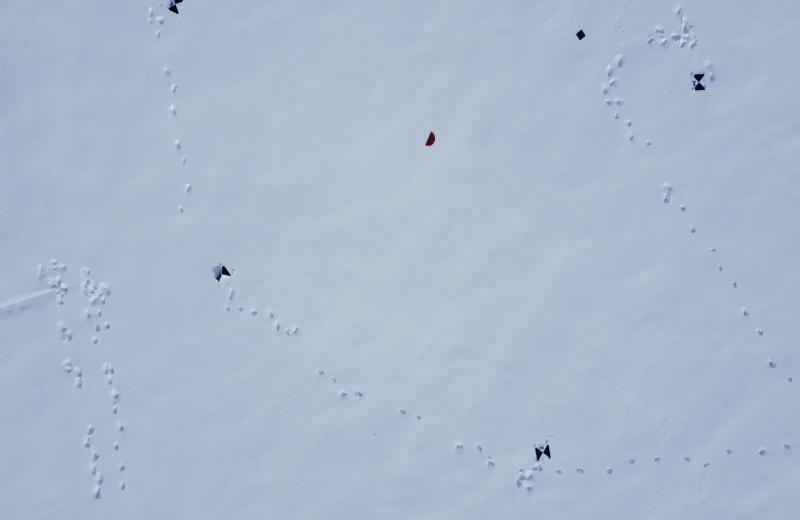Semi Circle: (425, 130, 436, 148)
Square: (575, 28, 587, 42)
